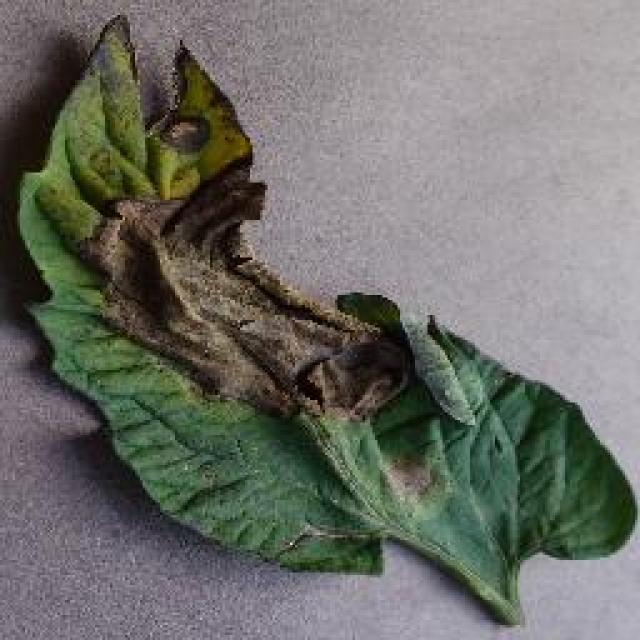Tomato healthy leaf: (20, 11, 640, 582)
